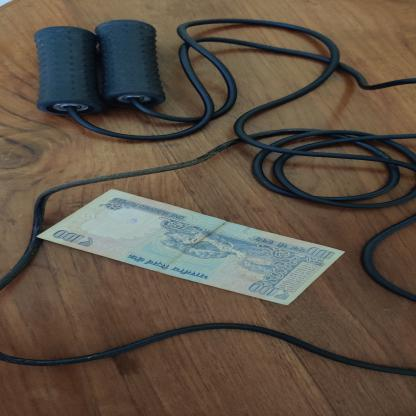Old100Back: (35, 188, 347, 306)
